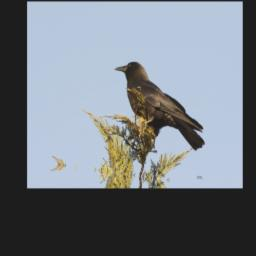Crow: (104, 56, 213, 155)
